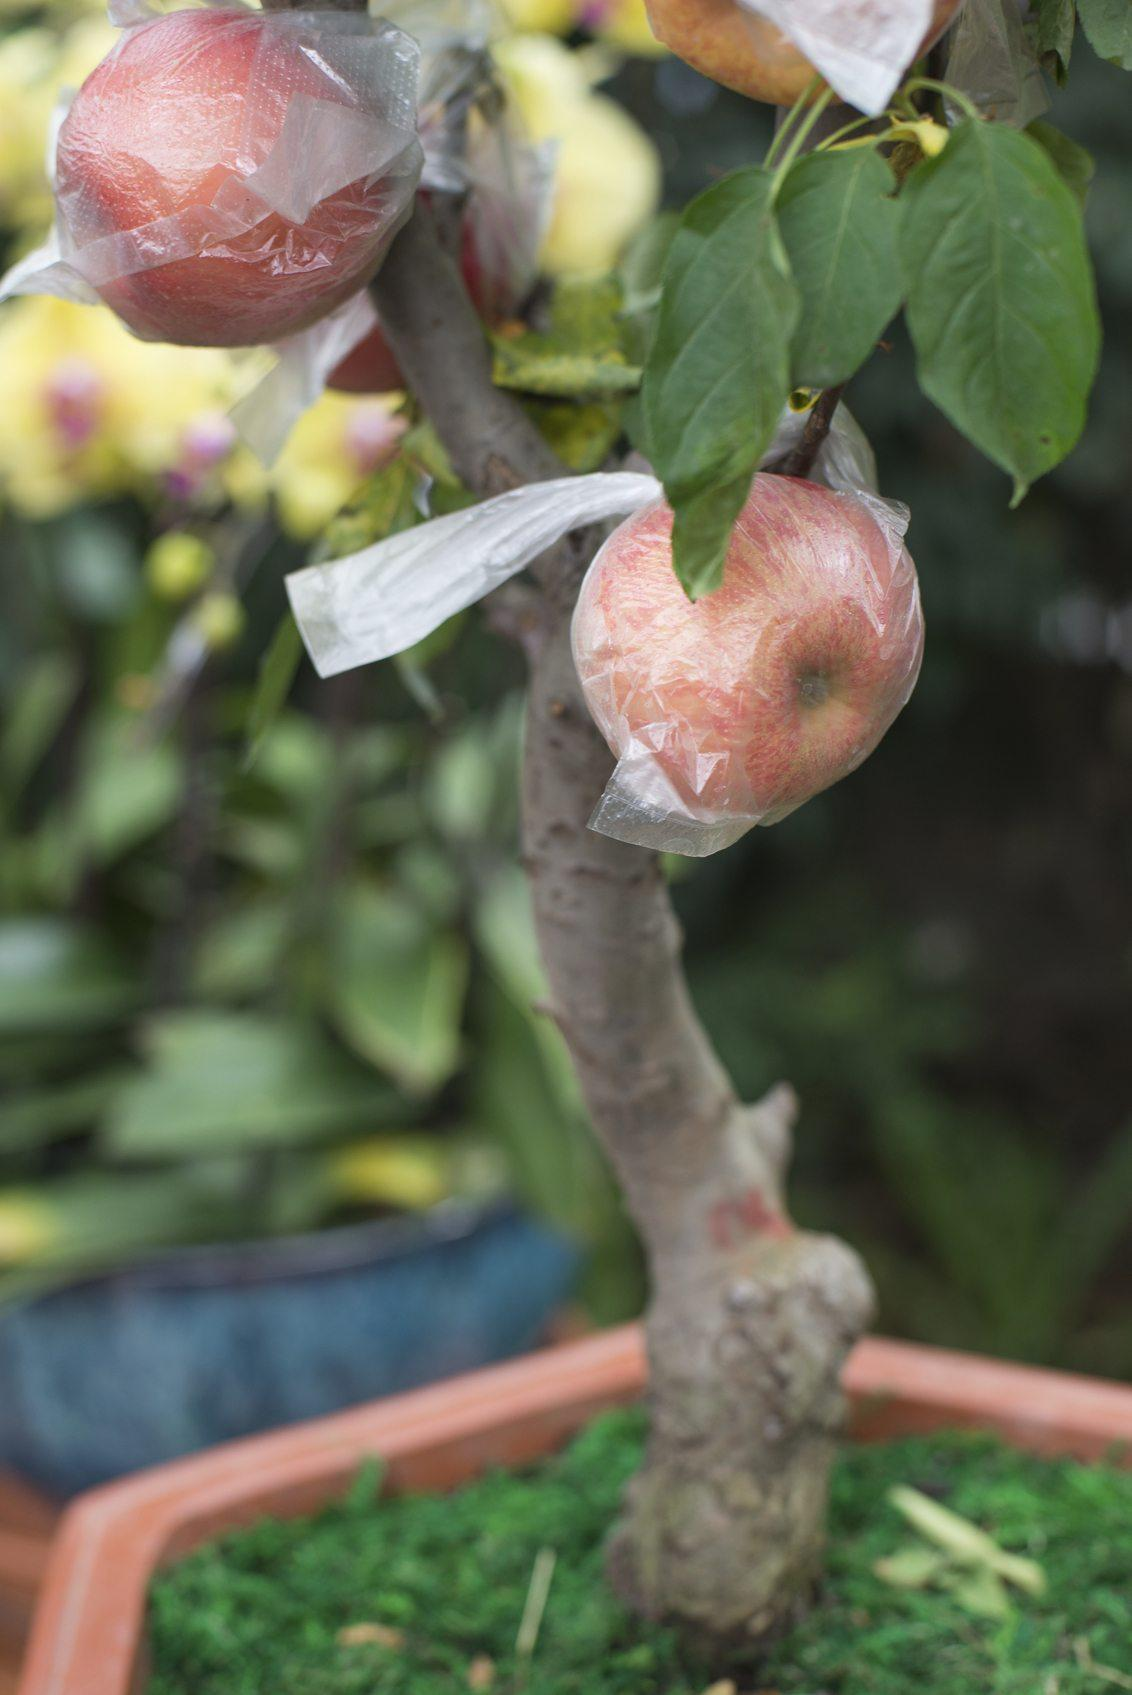apple: (574, 474, 927, 844), (53, 14, 395, 347)
